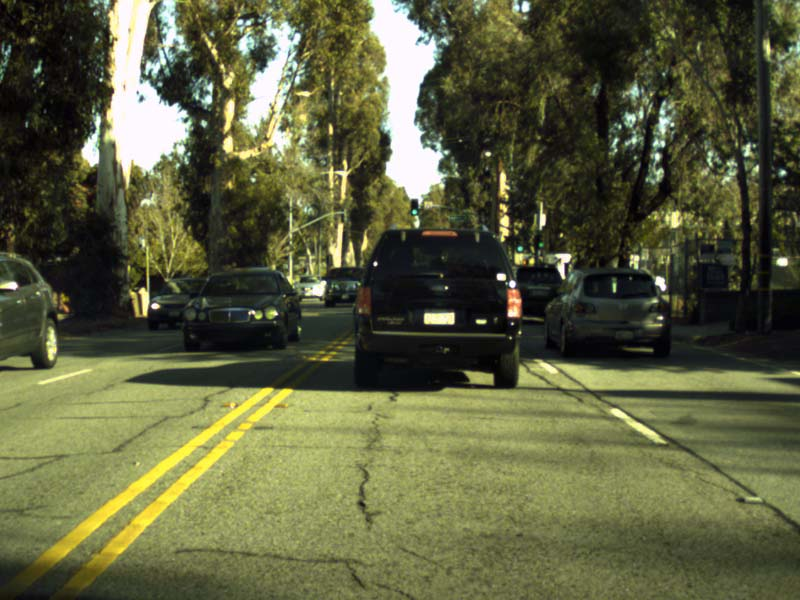Green: (410, 199, 418, 215), (516, 236, 523, 252), (536, 233, 543, 248)
